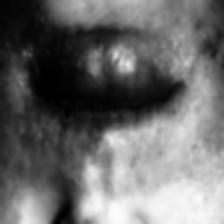Toxin: (140, 8, 224, 86), (1, 6, 46, 148), (44, 129, 88, 183)
